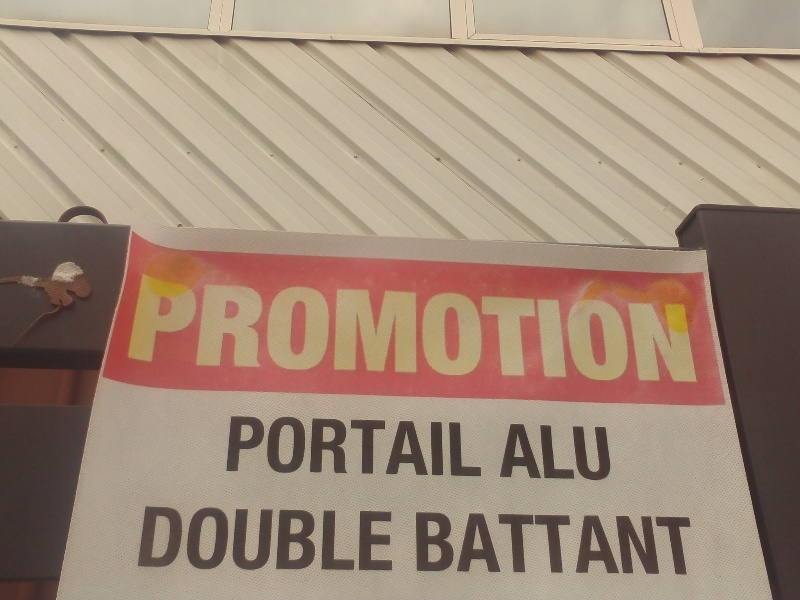text: (145, 273, 160, 384), (161, 273, 176, 384), (177, 273, 192, 384), (193, 273, 208, 384), (209, 273, 224, 384), (225, 273, 240, 384), (241, 273, 256, 384), (257, 273, 272, 384), (273, 273, 288, 384), (289, 273, 304, 384), (305, 273, 320, 384), (321, 273, 336, 384), (337, 273, 352, 384), (353, 273, 368, 384), (369, 273, 384, 384), (385, 273, 400, 384), (401, 273, 416, 384), (417, 273, 432, 384), (433, 273, 448, 384), (449, 273, 464, 384), (465, 273, 480, 384), (481, 273, 496, 384), (497, 273, 512, 384), (513, 273, 528, 384), (529, 273, 544, 384), (545, 273, 560, 384), (561, 273, 576, 384), (577, 273, 592, 384), (593, 273, 608, 384), (609, 273, 624, 384), (625, 273, 640, 384), (641, 273, 656, 384), (657, 273, 672, 384), (673, 273, 688, 384), (145, 506, 160, 572), (161, 506, 176, 572), (177, 506, 192, 572), (193, 506, 208, 572), (209, 506, 224, 572), (225, 506, 240, 572), (241, 506, 256, 572), (257, 506, 272, 572), (273, 506, 288, 572), (289, 506, 304, 572), (305, 506, 320, 572), (321, 506, 336, 572), (337, 506, 352, 572), (353, 506, 368, 572), (369, 506, 384, 572), (417, 511, 432, 576), (433, 511, 448, 576), (449, 511, 464, 576), (465, 511, 480, 576), (481, 511, 496, 576), (497, 511, 512, 576), (513, 511, 528, 576), (529, 511, 544, 576), (545, 511, 560, 576), (561, 511, 576, 576), (577, 511, 592, 576), (593, 511, 608, 576), (609, 511, 624, 576), (625, 511, 640, 576), (641, 511, 656, 576), (657, 511, 672, 576), (673, 511, 688, 576), (241, 415, 256, 477), (257, 415, 272, 477), (273, 415, 288, 477), (289, 415, 304, 477), (305, 415, 320, 477), (321, 415, 336, 477), (337, 415, 352, 477), (353, 415, 368, 477), (369, 415, 384, 477), (385, 415, 400, 477), (401, 415, 416, 477), (417, 415, 432, 477), (433, 415, 448, 477), (449, 415, 464, 477), (465, 415, 480, 477), (689, 273, 697, 384), (513, 424, 528, 482), (529, 424, 544, 482), (545, 424, 560, 482), (561, 424, 576, 482), (577, 424, 592, 482), (593, 424, 608, 482), (231, 415, 240, 477), (385, 506, 393, 572), (609, 424, 613, 482), (142, 273, 144, 384), (689, 511, 692, 576), (481, 415, 483, 477), (511, 424, 512, 482)
